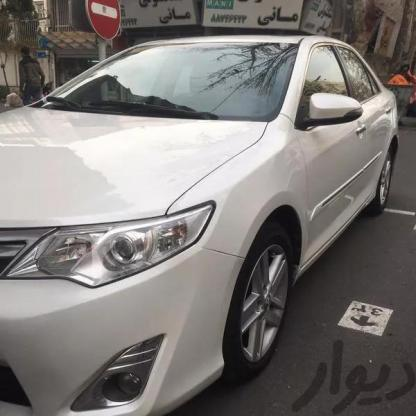Car: (0, 19, 416, 416)
